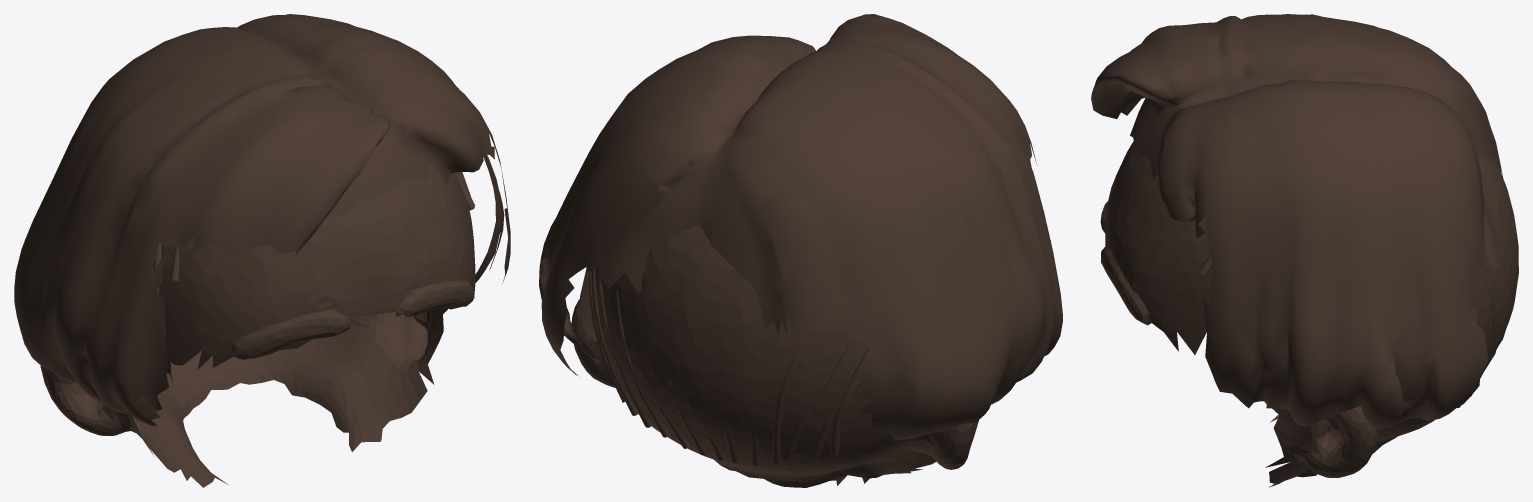
Rendered from bob.glb.
3 renders of one model, left to right at view 1: azimuth 30°, elevation 25°; view 2: azimuth 150°, elevation 25°; view 3: azimuth 270°, elevation 25°, orthographic.
Visible parts, largest first — view 1: Hair, HairScalp, HairPulledRootStrands; view 2: Hair, HairScalp, HairPulledRootStrands; view 3: Hair, HairScalp, HairPulledRootStrands.
Boxes of the visible parts, box(x1,y1,x2,y2) form: Hair: box(14, 14, 510, 425); HairScalp: box(40, 164, 475, 487); HairPulledRootStrands: box(150, 172, 475, 292); Hair: box(539, 14, 1062, 440); HairScalp: box(571, 224, 978, 487); HairPulledRootStrands: box(588, 269, 868, 465); Hair: box(1091, 14, 1502, 429); HairScalp: box(1100, 141, 1518, 487); HairPulledRootStrands: box(1199, 254, 1513, 407).
Size of the model in its own units: 0.5212 by 0.4514 by 0.4294.
